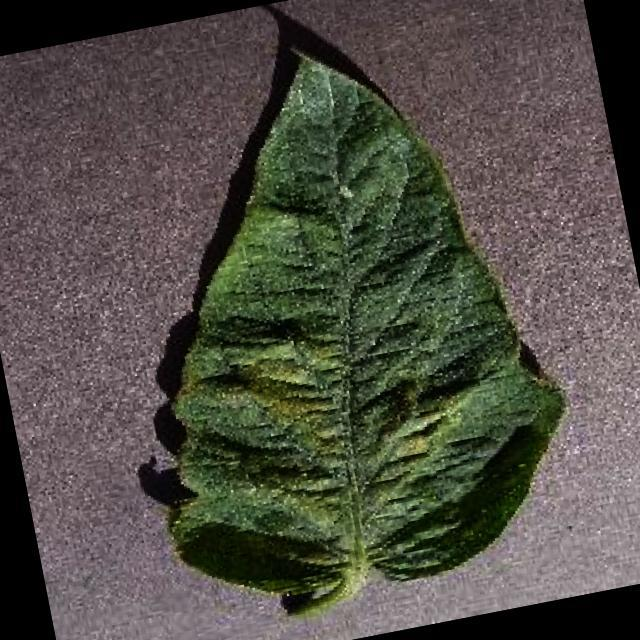Tomato spider mites leaf: (78, 9, 591, 622)
